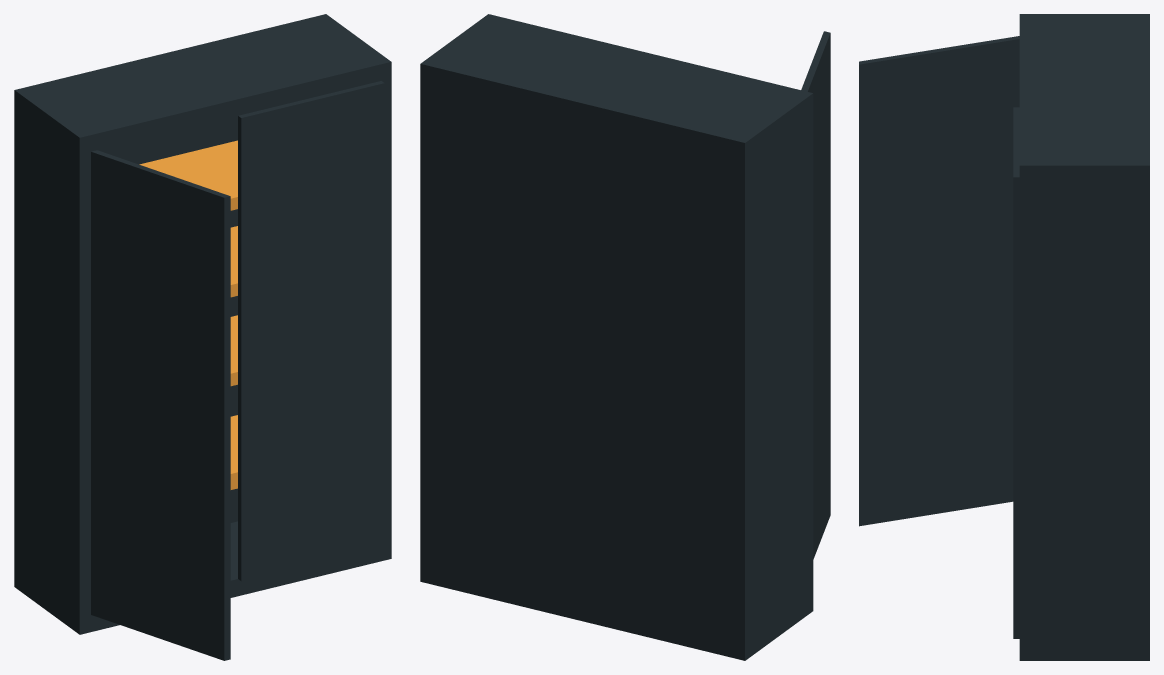
File: armoire.fbx
3 renders of one model, left to right at view 1: azimuth 30°, elevation 25°; view 2: azimuth 150°, elevation 25°; view 3: azimuth 270°, elevation 25°, orthographic. The views are drawn at different scales.
Visible parts, largest first — view 1: Cube; view 2: Cube; view 3: Cube.
Part boxes in pixels (x1,y1,x2,y2): Cube: (14, 14, 391, 660); Cube: (420, 14, 830, 660); Cube: (859, 14, 1149, 660).
Size of the model in its own units: 551 by 840 by 447.
